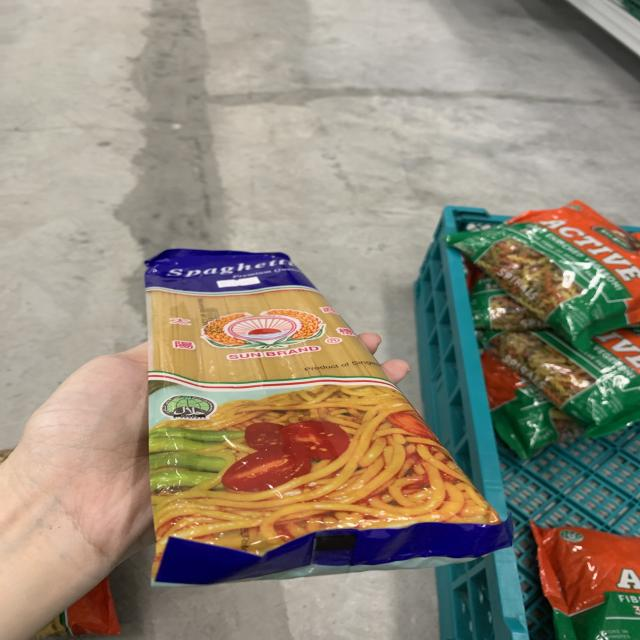object_name: (148, 258, 481, 563)
